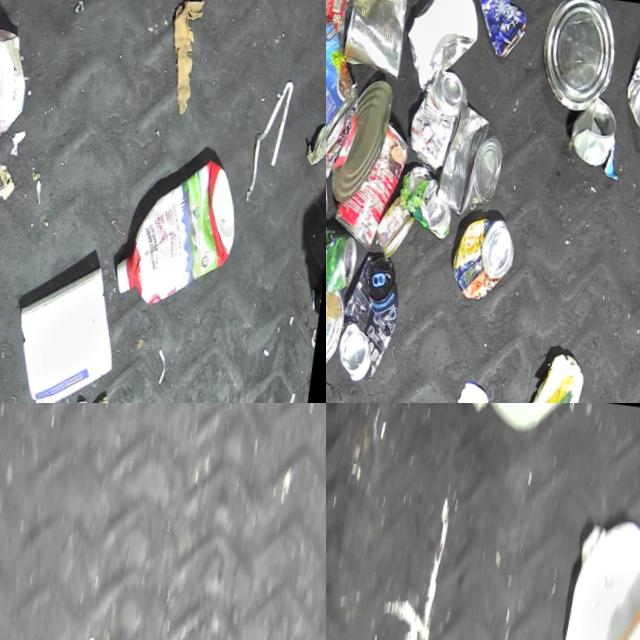can: (326, 114, 413, 255), (528, 0, 625, 123), (326, 251, 405, 390), (425, 100, 510, 225), (326, 74, 396, 208), (399, 67, 472, 177), (441, 214, 518, 309), (326, 11, 372, 154), (334, 0, 412, 83), (391, 164, 457, 244), (462, 0, 532, 67), (562, 95, 621, 172), (367, 194, 417, 263), (615, 29, 640, 142), (326, 222, 360, 299), (326, 285, 346, 383), (326, 0, 356, 60)
milk_jug: (537, 513, 640, 640)
non_white_jug: (101, 149, 244, 322), (0, 7, 34, 183)
